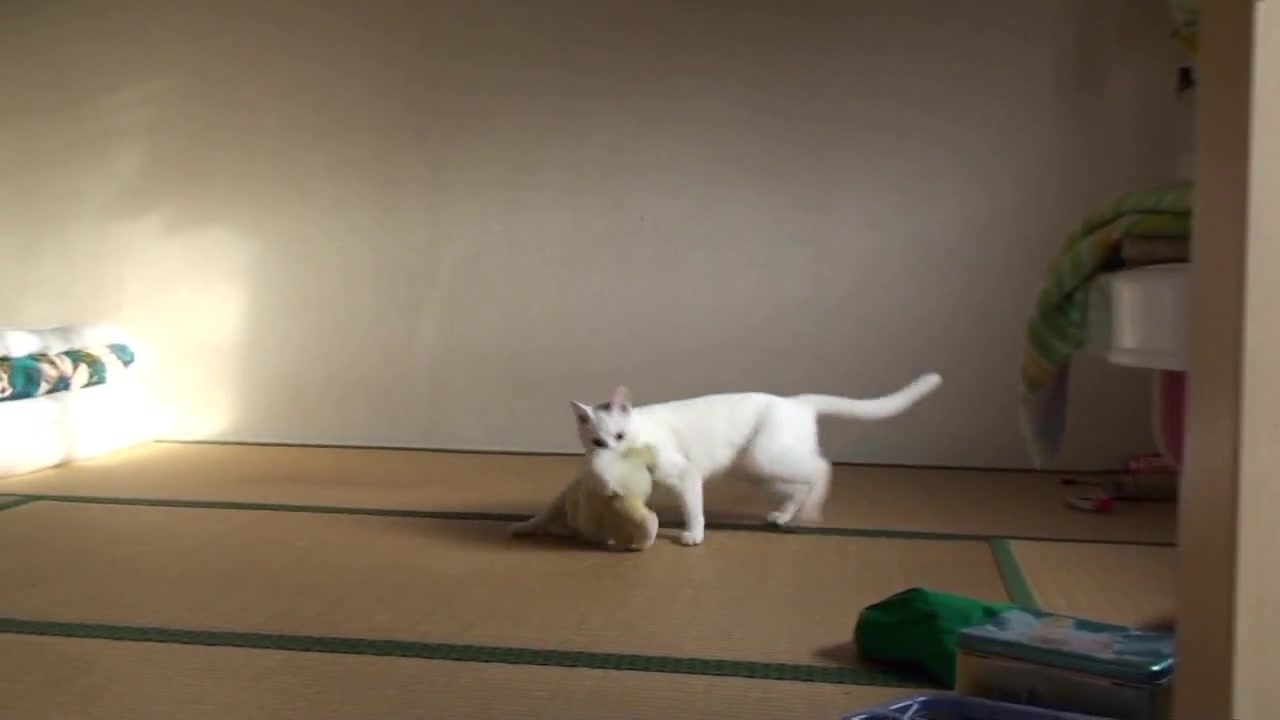cat: (572, 370, 951, 546)
